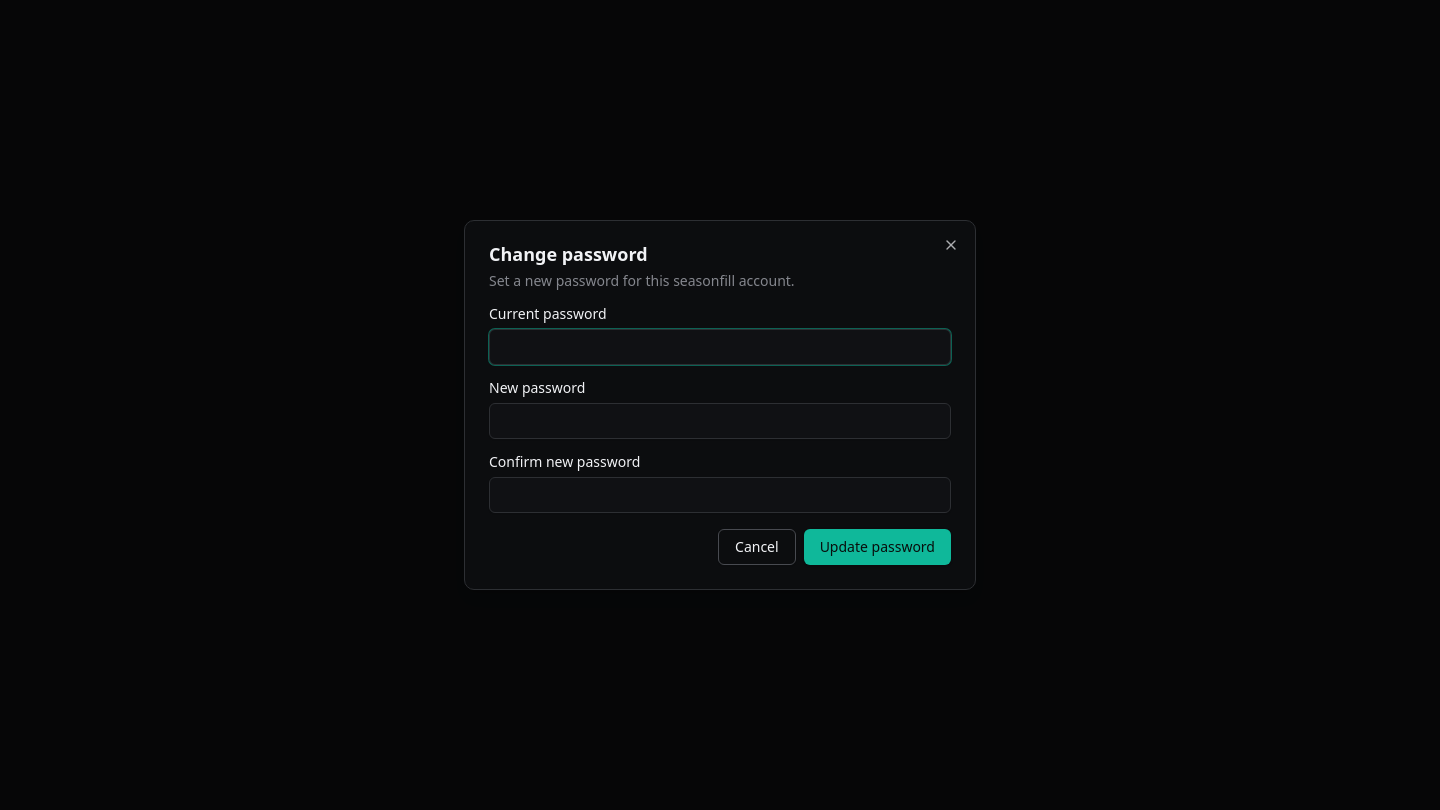
Test: <PasswordChangeDialog /> › rejects new password shorter than 8 chars
Type "oldpass" into the password field labelled "Current password" at (720, 347), box x1=489 y1=329 x2=951 y2=365
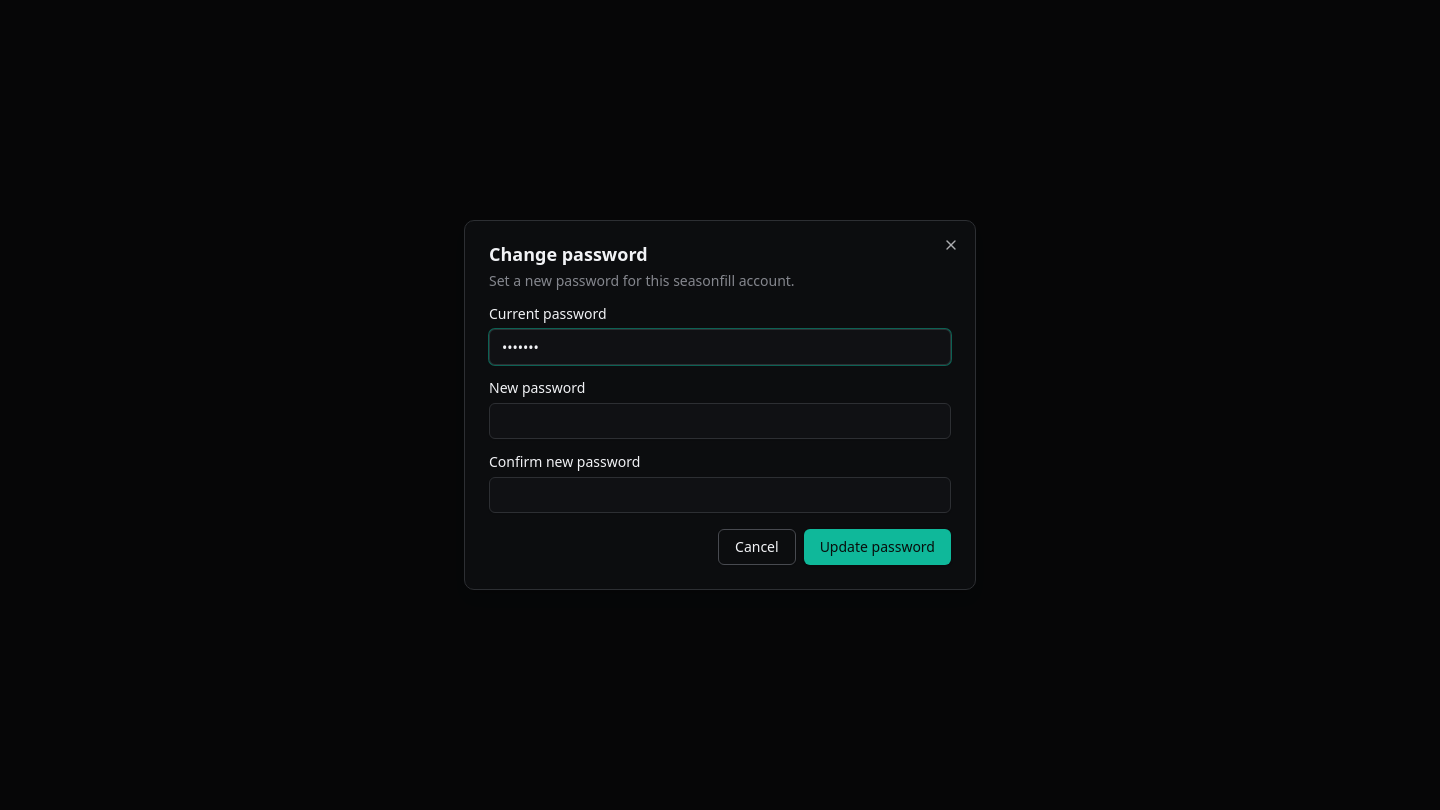
Type "short" into the password field labelled "New password" at (720, 421), box x1=489 y1=403 x2=951 y2=439
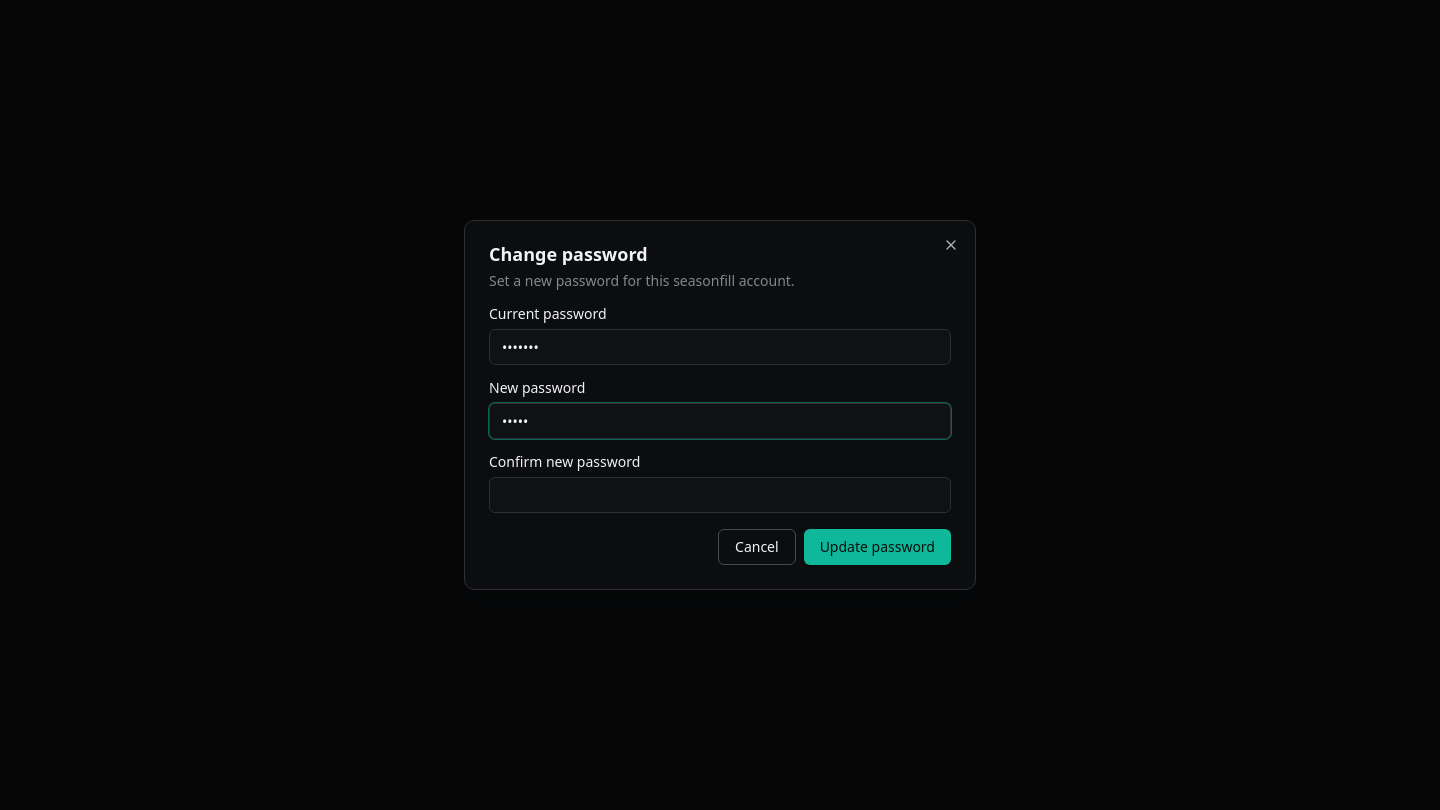
Type "short" into the password field labelled "Confirm new password" at (720, 495), box x1=489 y1=477 x2=951 y2=513
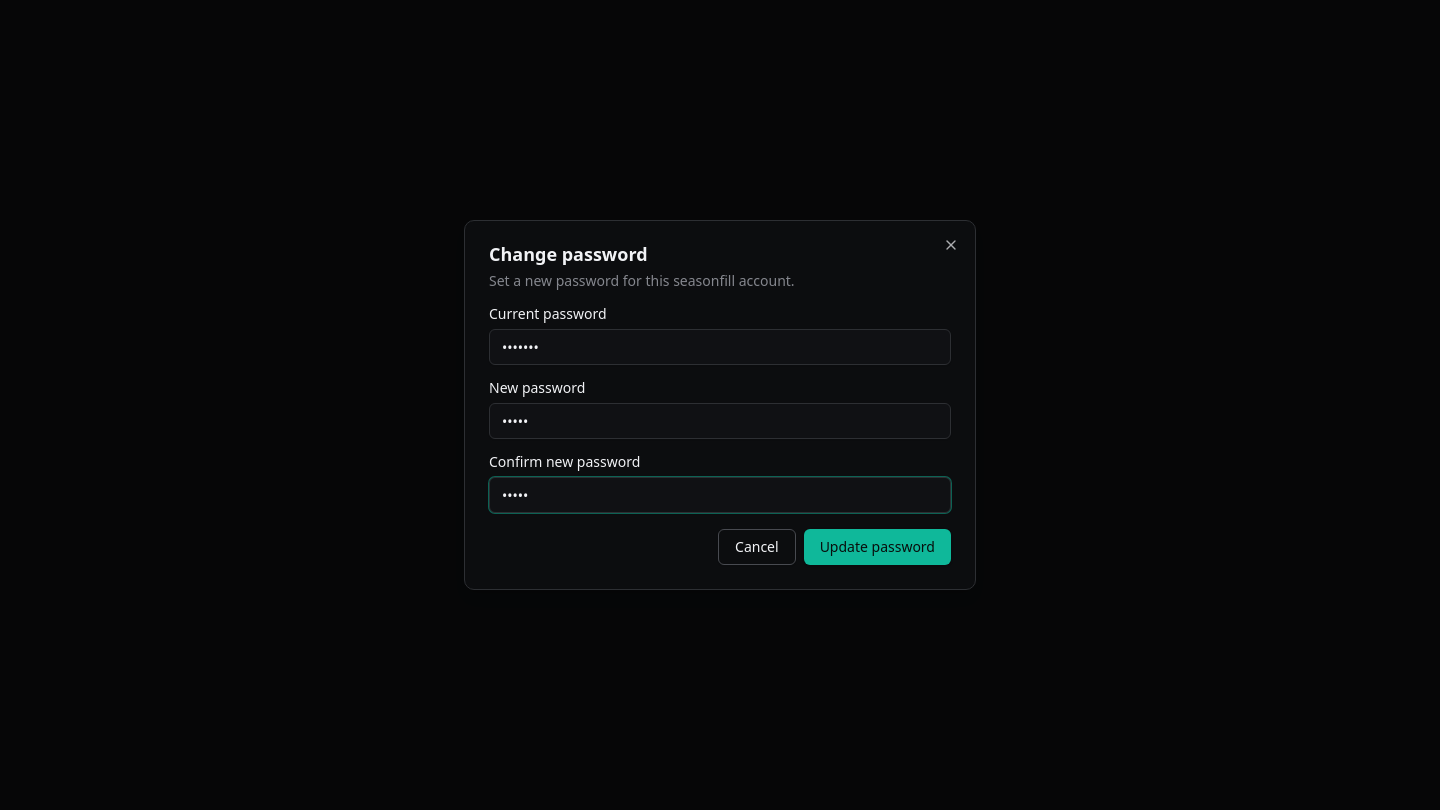
Click the button "Update password" at (877, 547), box x1=804 y1=529 x2=951 y2=565
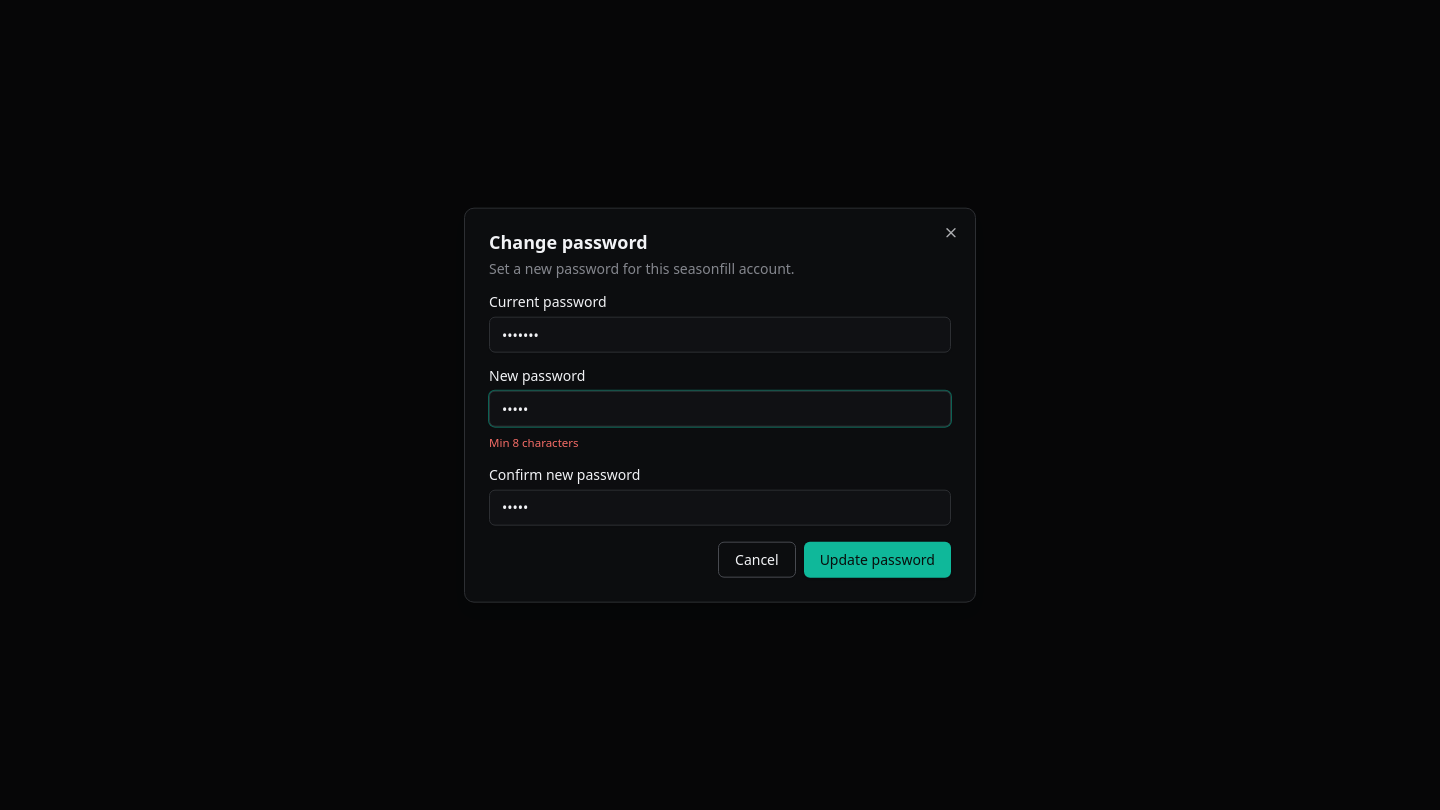
Result: the text "Min 8 characters" is shown at x1=489 y1=435 x2=578 y2=450
